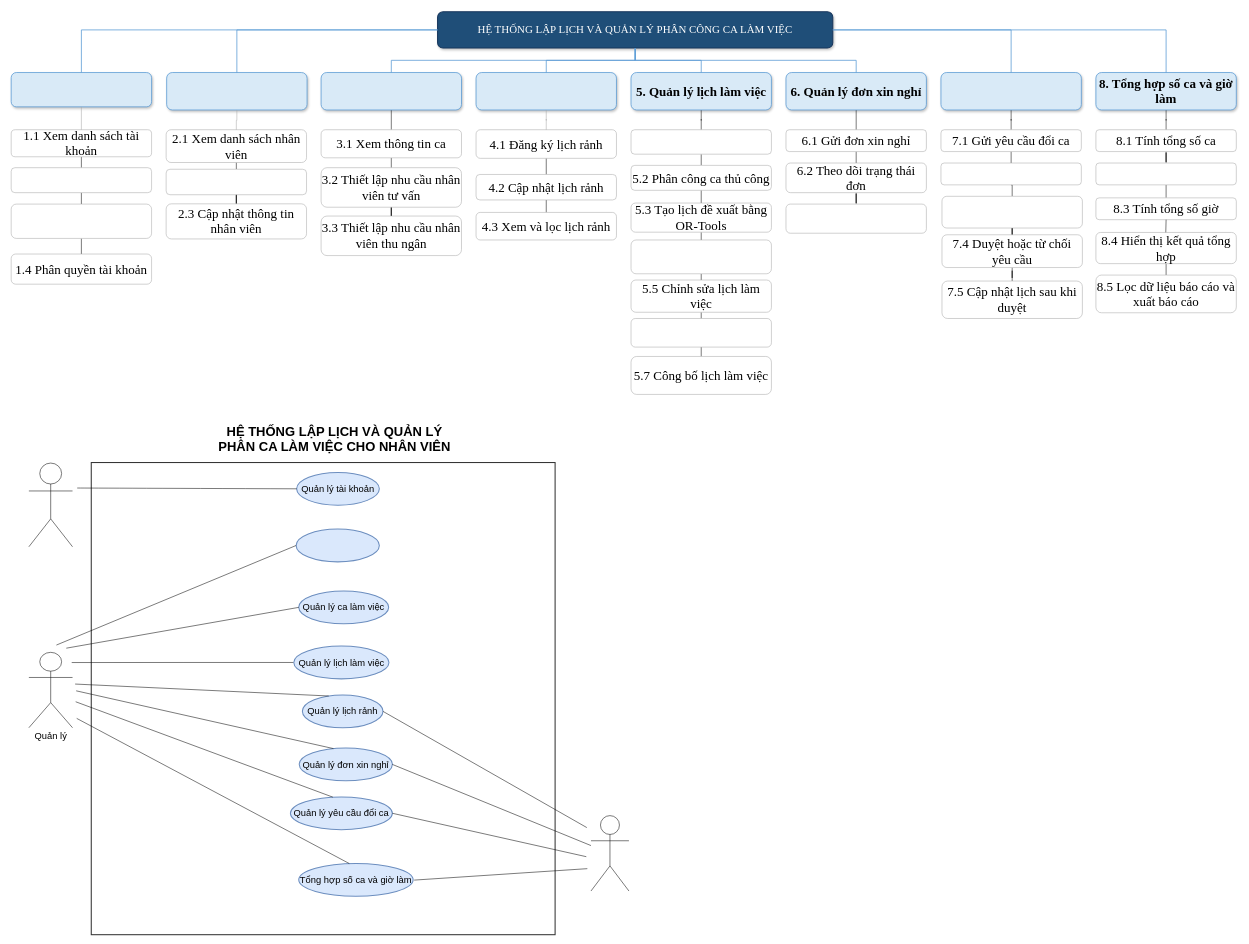
This 1249x944 diagram has some shape labels left out. The centre of each missing label's shape, as x and y in pixels:
"1. Quản lý tài khoản" goes at [81,90].
"1.2 Tạo tài khoản" goes at [81,180].
"1.3 Khóa hoặc mở khóa tài khoản" goes at [81,221].
"2. Quản lý nhân viên" goes at [237,92].
"2.2 Thêm nhân viên" goes at [236,182].
"3. Quản lý ca làm việc" goes at [391,92].
"4. Quản lý lịch rảnh" goes at [546,92].
"5.1 Tạo tuần làm việc" goes at [700,141].
"5.4 Kiểm tra điều kiện phân ca" goes at [700,256].
"5.6 Lưu lịch nháp" goes at [700,332].
"6.3 Duyệt hoặc từ chối đơn" goes at [855,218].
"7. Quản lý yêu cầu đổi ca" goes at [1011,92].
"7.2 Phản hồi yêu cầu" goes at [1010,173].
"7.3 Kiểm tra điều kiện nhận ca" goes at [1011,212].
"8.2 Tính số ngày làm" goes at [1165,173].
"Nhân Viên" goes at [609,853].
"Quản lý nhân viên" goes at [337,545].
"Quản trị viên" goes at [50,505].
